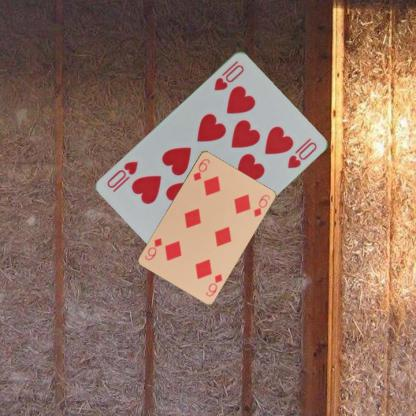10h: (211, 61, 245, 92)
6d: (202, 271, 223, 298), (191, 156, 211, 182)
